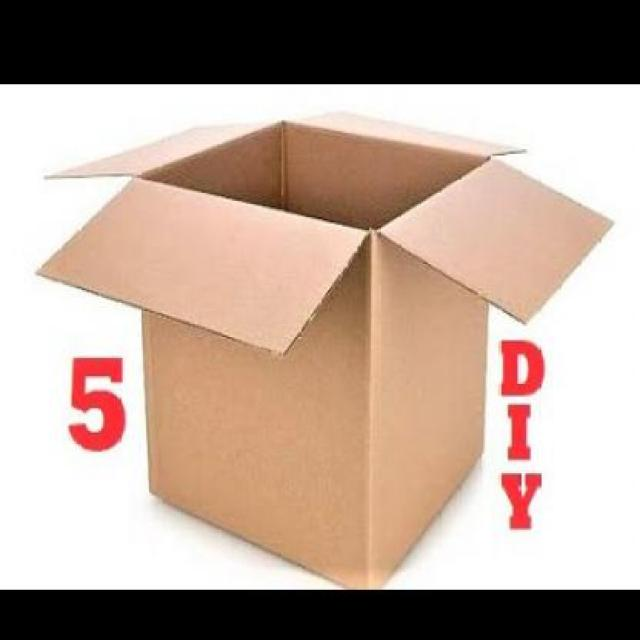box: (23, 84, 614, 587)
